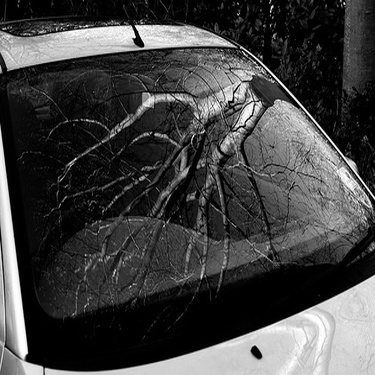car: (16, 23, 352, 359)
